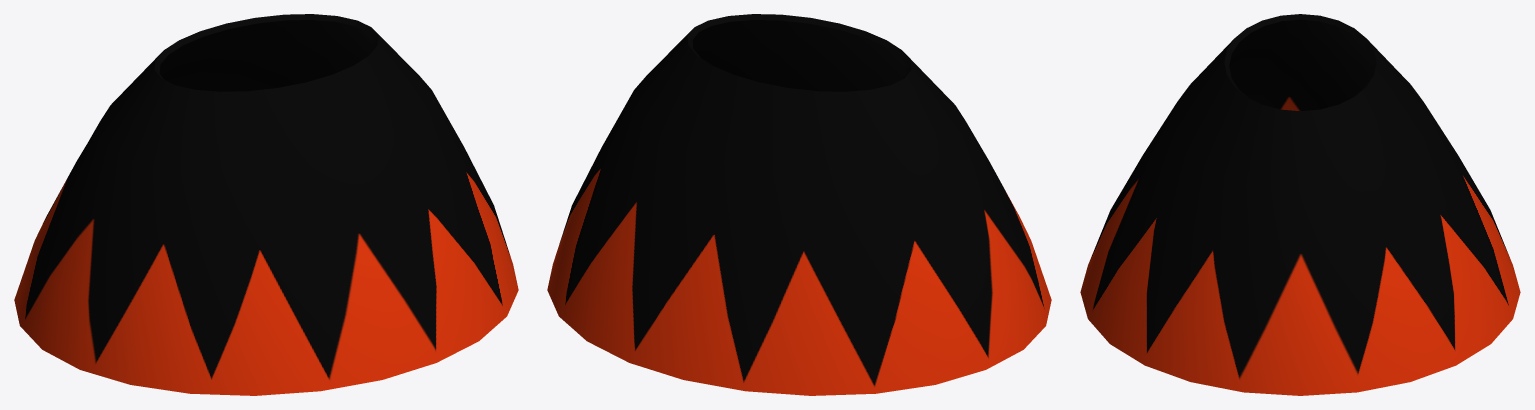
The model's file is momiji_skirt.glb.
3 views of the same model, side by side, from view 1: azimuth 30°, elevation 25°; view 2: azimuth 150°, elevation 25°; view 3: azimuth 270°, elevation 25° (orthographic). The views are drawn at different scales.
Visible parts, largest first — view 1: Skirt; view 2: Skirt; view 3: Skirt.
Part boxes in pixels (x1=…): Skirt: x1=14, y1=14, x2=518, y2=395; Skirt: x1=547, y1=14, x2=1051, y2=395; Skirt: x1=1080, y1=14, x2=1520, y2=395.
Size of the model in its own units: 1.58 by 0.8196 by 1.41.
Materials: 1 (1 with a texture image).
